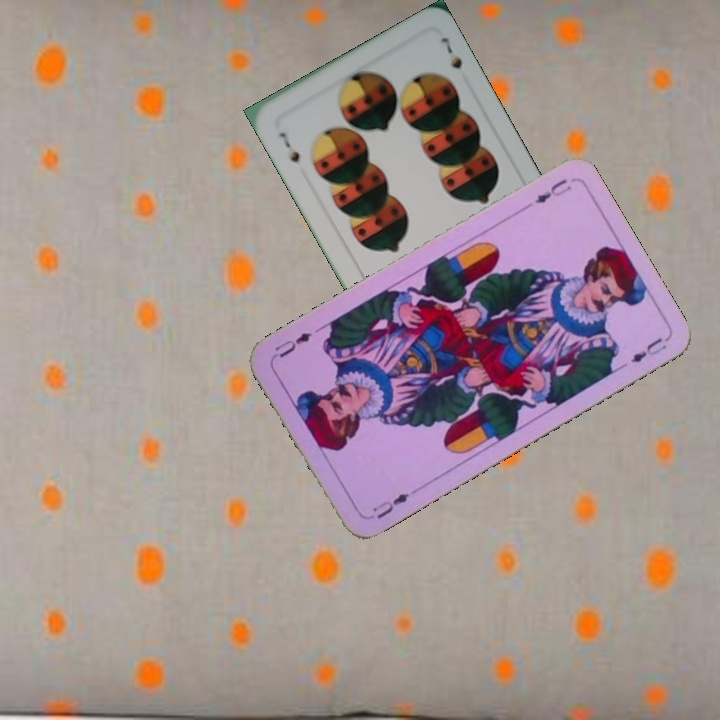EU: (368, 489, 412, 521), (530, 174, 574, 206)
S7: (274, 128, 303, 167)
